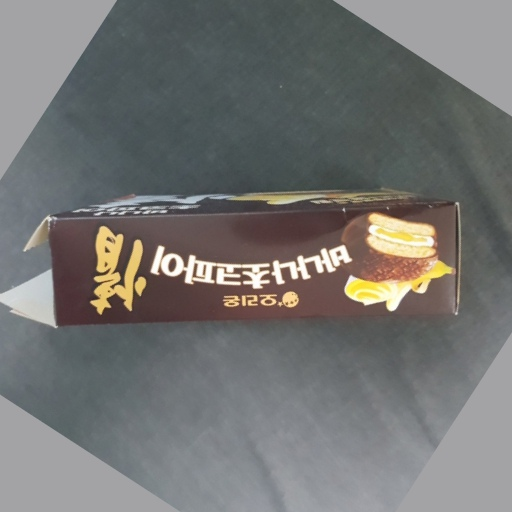Paper_0: (1, 184, 475, 346)
